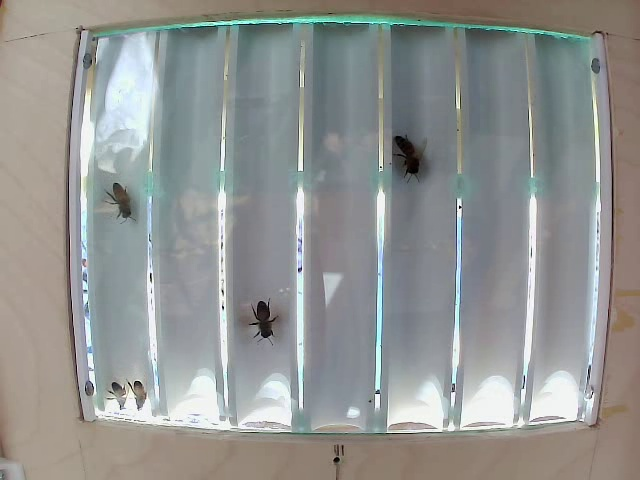bee: (230, 284, 305, 362), (379, 128, 432, 188), (99, 187, 147, 221)
